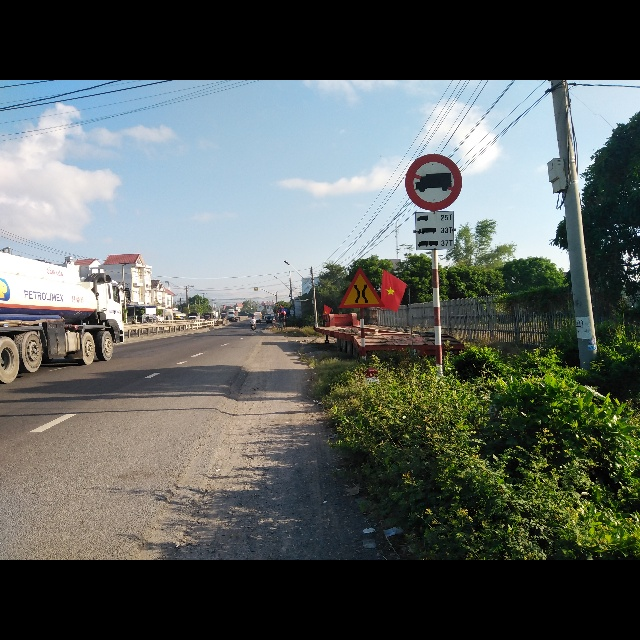Cấm xe tải: (405, 154, 462, 211)
Cầu hẹp: (336, 266, 381, 308)
